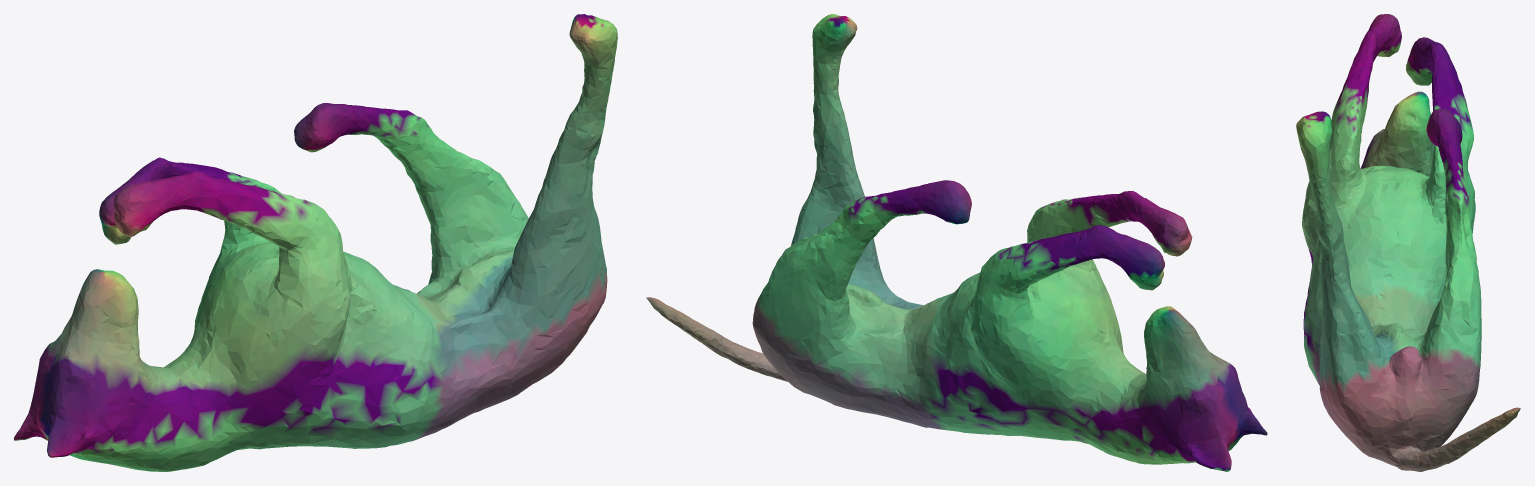
Rendered from dog2-2.off.obj.
The picture shows the model from 3 angles, left to right: view 1: azimuth 30°, elevation 25°; view 2: azimuth 150°, elevation 25°; view 3: azimuth 270°, elevation 25°; orthographic projection. The views are drawn at different scales.
Size of the model in its own units: 1.58 by 0.9732 by 0.5339.
